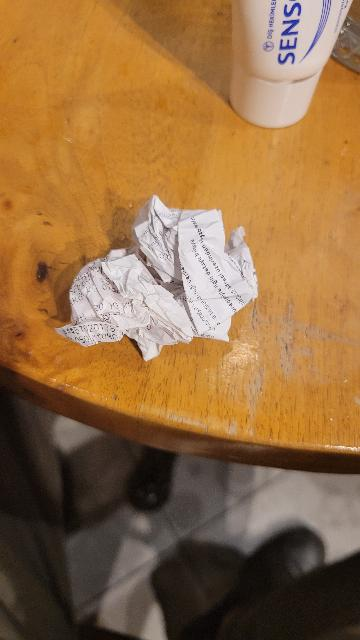Kagit: (59, 191, 267, 368)
Plastik: (221, 0, 357, 142)
